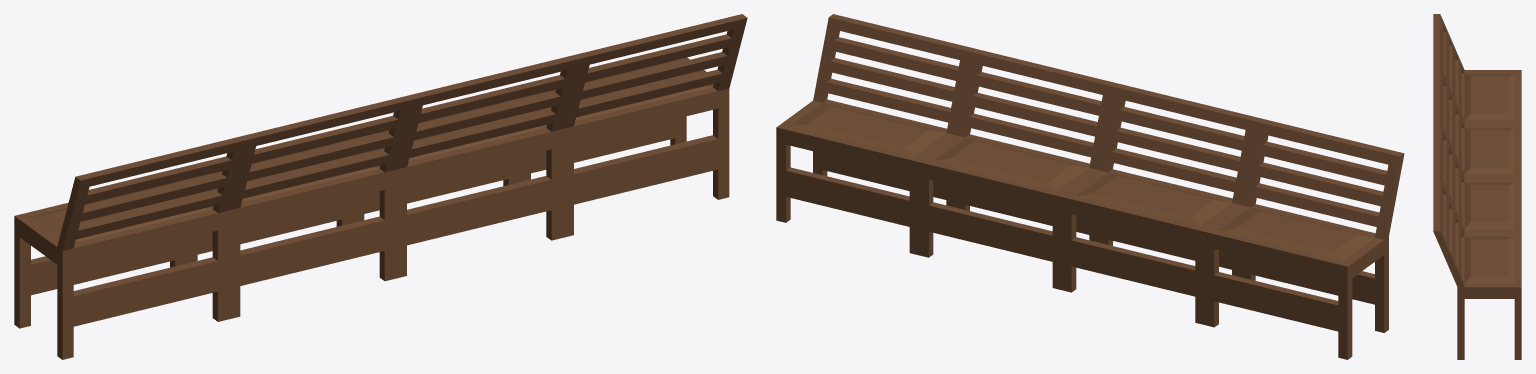
Rendered from graveyardChair.fbx.
3 renders of one model, left to right at view 1: azimuth 30°, elevation 25°; view 2: azimuth 150°, elevation 25°; view 3: azimuth 270°, elevation 25°, orthographic. The views are drawn at different scales.
Parts seen in each view (by area): view 1: Cube; view 2: Cube; view 3: Cube.
Boxes of the visible parts, box(x1,y1,x2,y2) form: Cube: box(14, 14, 747, 359); Cube: box(776, 14, 1404, 359); Cube: box(1433, 14, 1521, 359).
Bounding box in the file's own units: 800 × 221 × 138.
